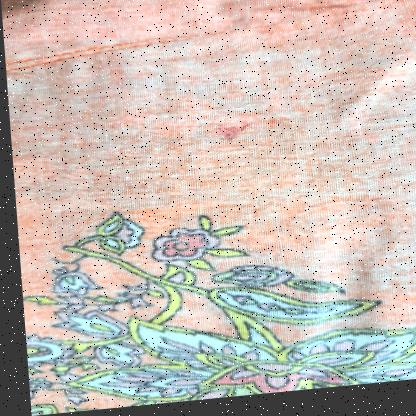spot: (205, 122, 248, 149)
